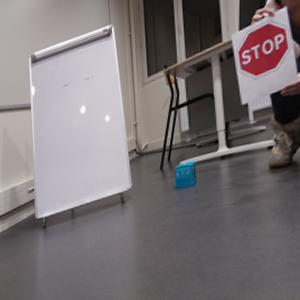big: (32, 25, 133, 221)
small: (174, 162, 198, 188)
